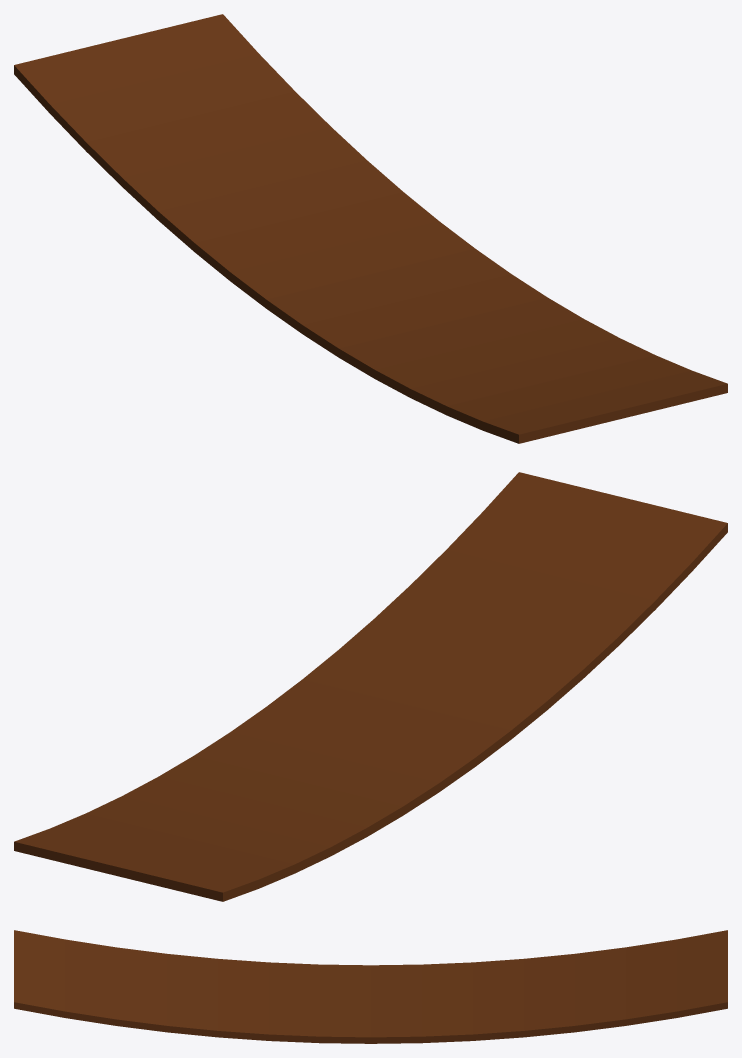
The model's file is Puente.FBX.
The picture shows the model from 3 angles, top to bottom: view 1: azimuth 30°, elevation 25°; view 2: azimuth 150°, elevation 25°; view 3: azimuth 270°, elevation 25°; orthographic projection. The views are drawn at different scales.
Parts seen in each view (by area): view 1: Puente; view 2: Puente; view 3: Puente.
Boxes of the visible parts, x1=… form: Puente: x1=14, y1=14, x2=727, y2=443; Puente: x1=14, y1=472, x2=727, y2=901; Puente: x1=14, y1=930, x2=727, y2=1043.
Size of the model in its own units: 112 by 30.24 by 469.
